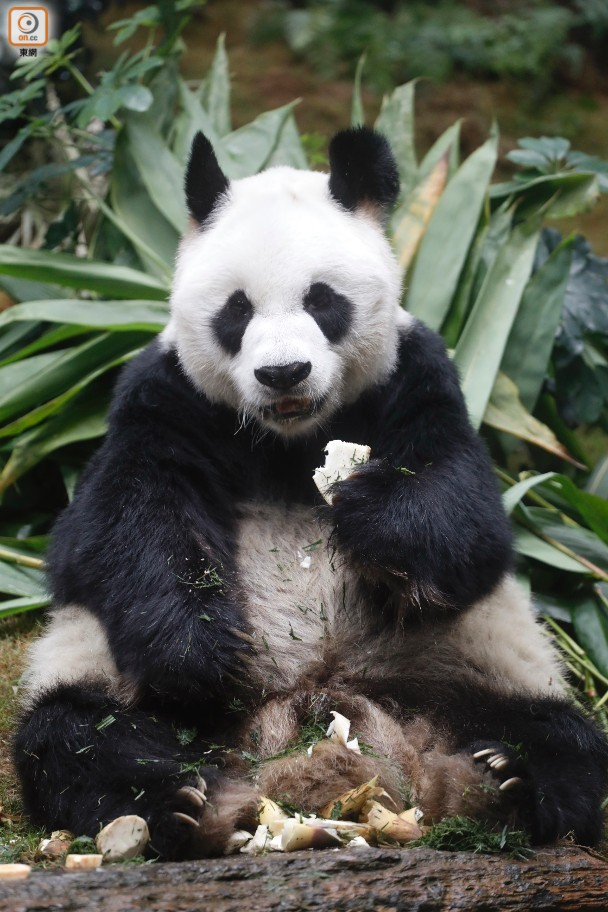panda: (11, 124, 608, 859)
